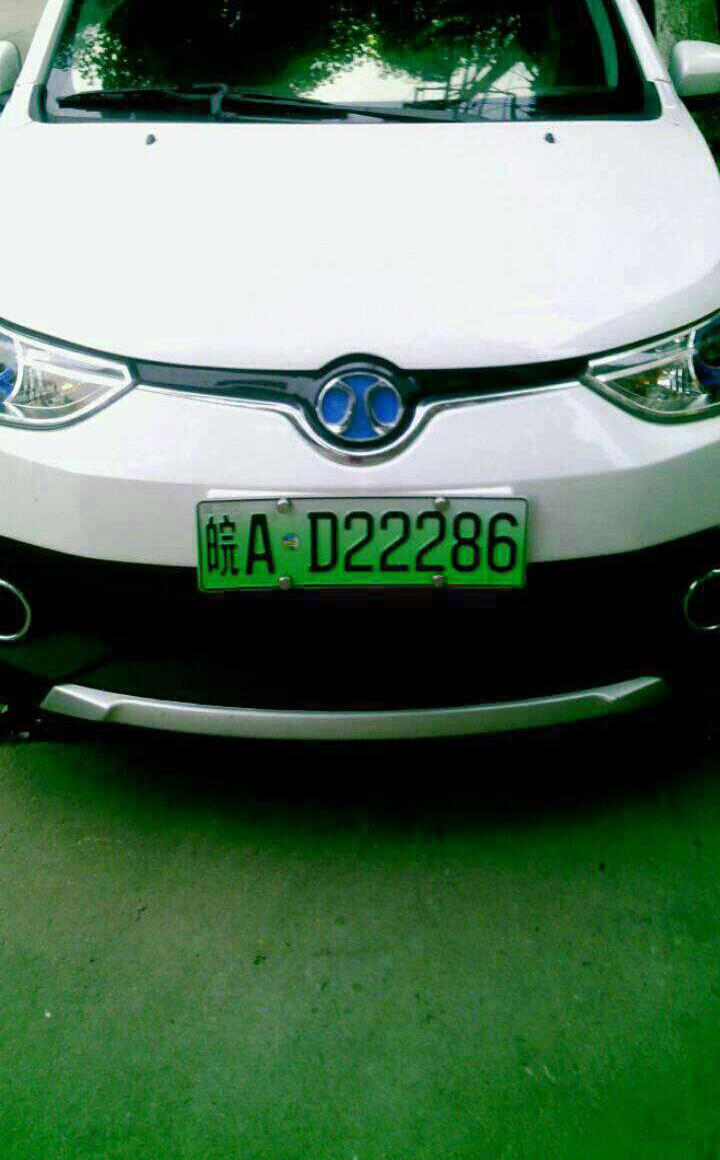car_id: (198, 501, 524, 589)
